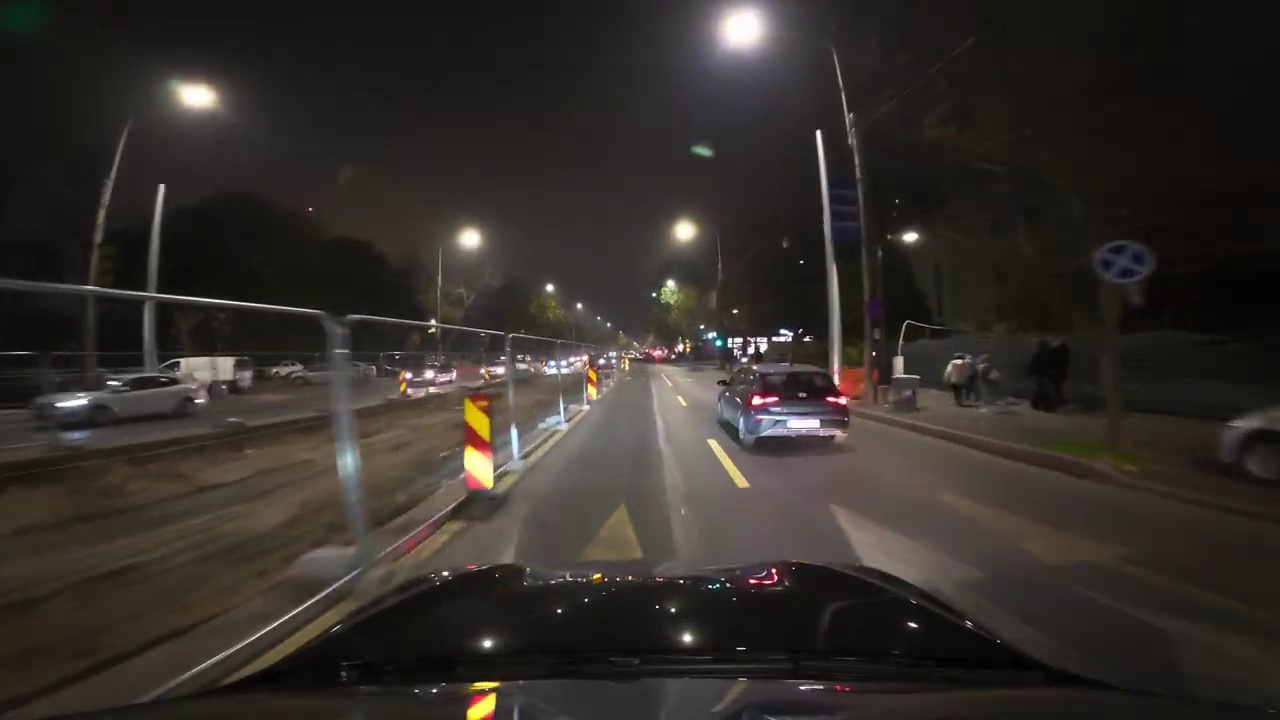acesa: (719, 9, 764, 48), (173, 81, 217, 113), (670, 216, 701, 246), (452, 225, 484, 253), (896, 227, 923, 251), (540, 280, 563, 307), (690, 139, 716, 162)
